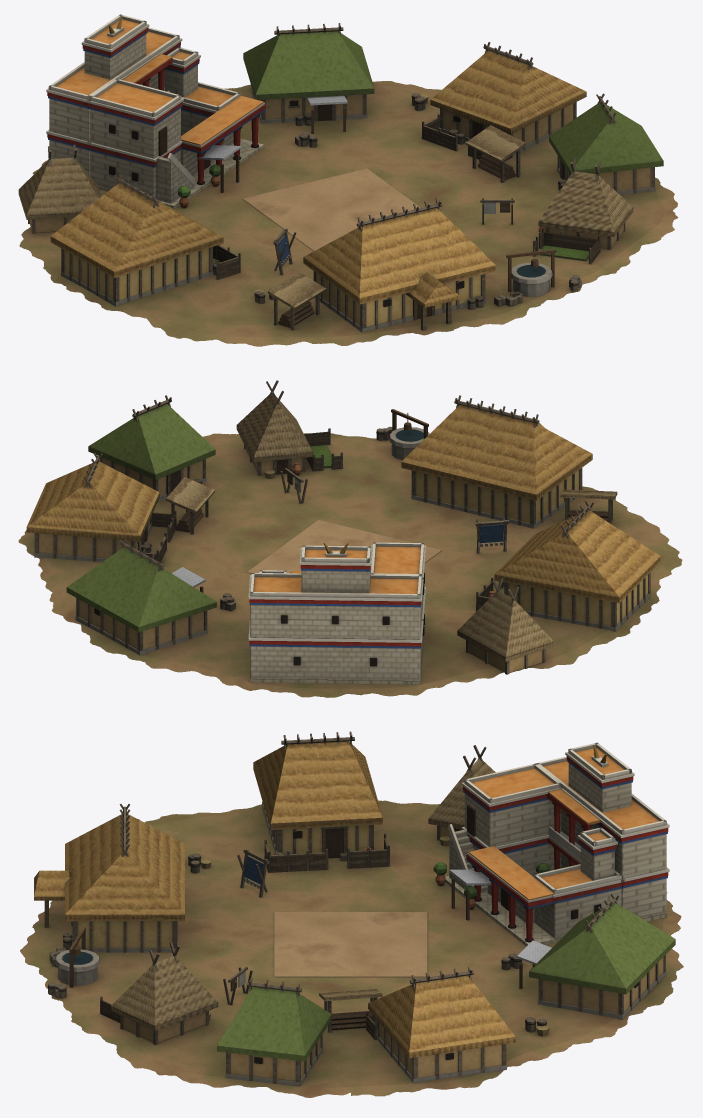
Rendered from bronze-town-small-b-europe.glb.
3 views of the same model, one above another, from view 1: azimuth 30°, elevation 25°; view 2: azimuth 150°, elevation 25°; view 3: azimuth 270°, elevation 25° (orthographic). The views are drawn at different scales.
Parts seen in each view (by area): view 1: LOD0; view 2: LOD0; view 3: LOD0.
Part boxes in pixels (left/top/right/bottom): LOD0: left=18, top=14, right=678, bottom=346; LOD0: left=18, top=380, right=682, bottom=697; LOD0: left=20, top=731, right=683, bottom=1097.
Size of what is drawn, in the model's own units: 3.98 by 0.8738 by 3.71.
3 materials, 3 textured.
